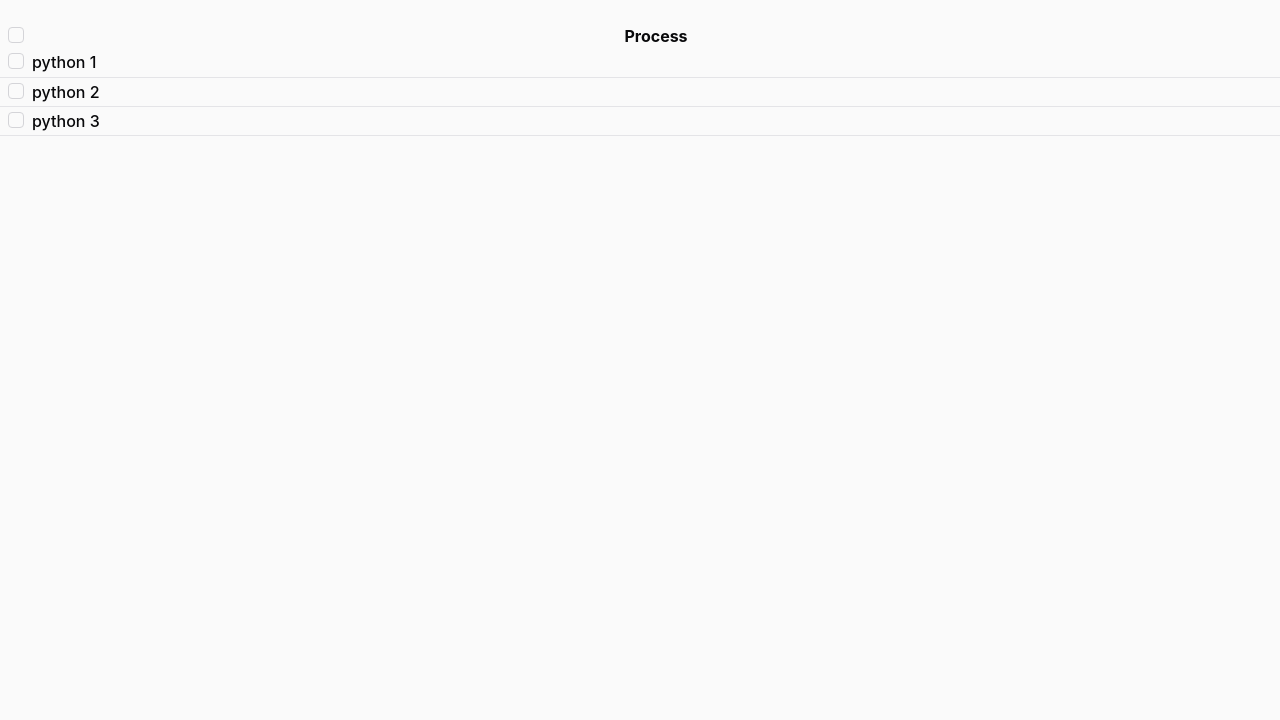
shared process interaction › confirms once for an immutable group and reports partial results
Click the checkbox named "Select all matching processes". click: (16, 35)
box: [8,27,24,43]
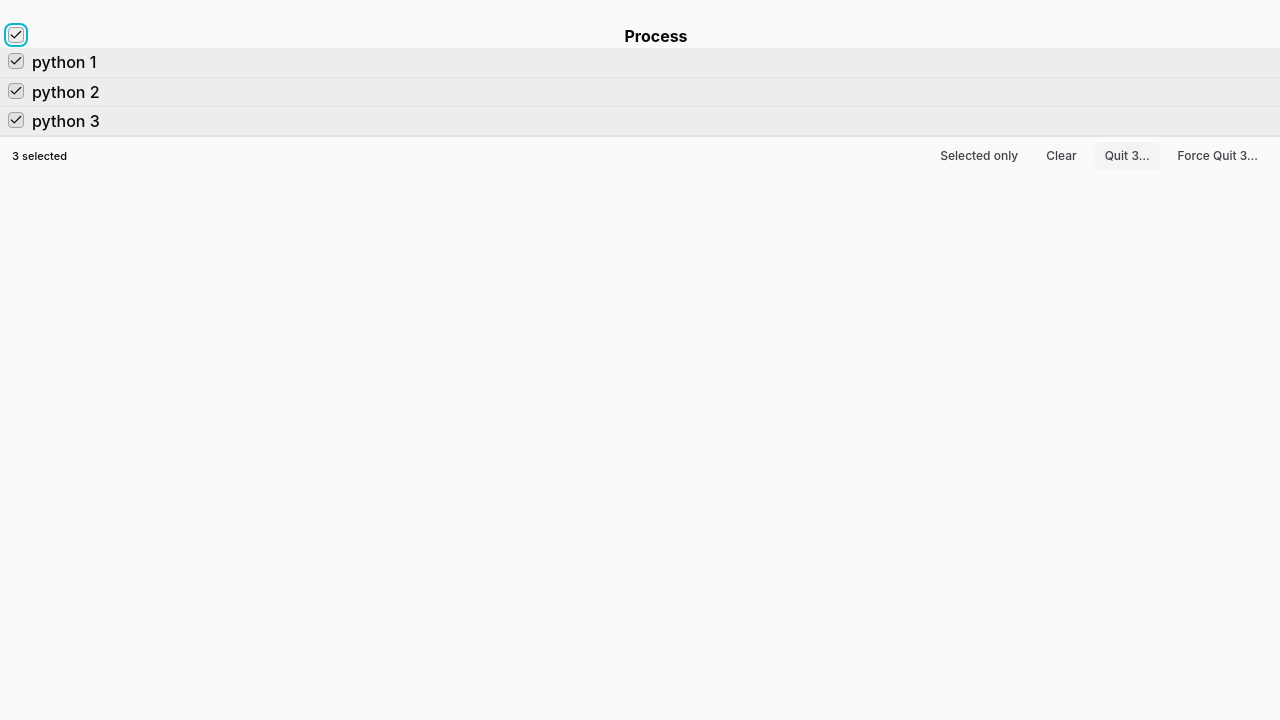
Click the button "Quit 3…". click: (1127, 156)
box: [1095,142,1160,170]
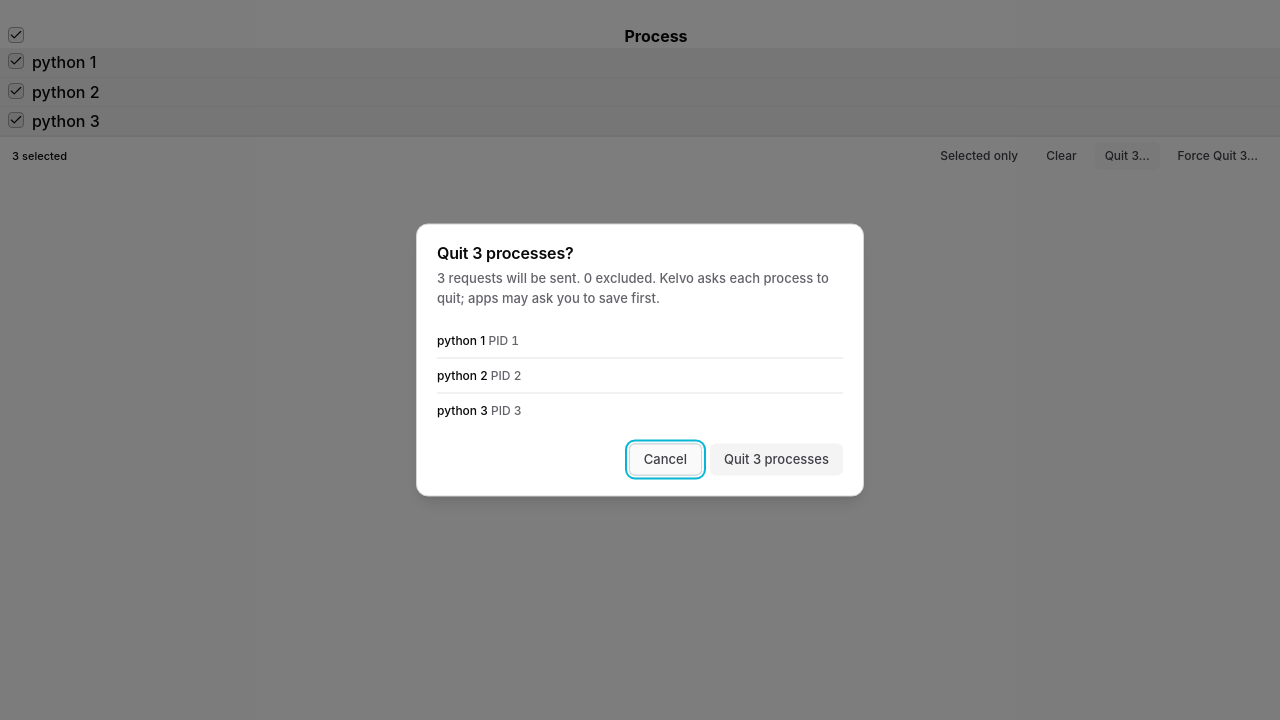
Click the button "Quit 3 processes". click: (776, 460)
box: [710,444,843,476]
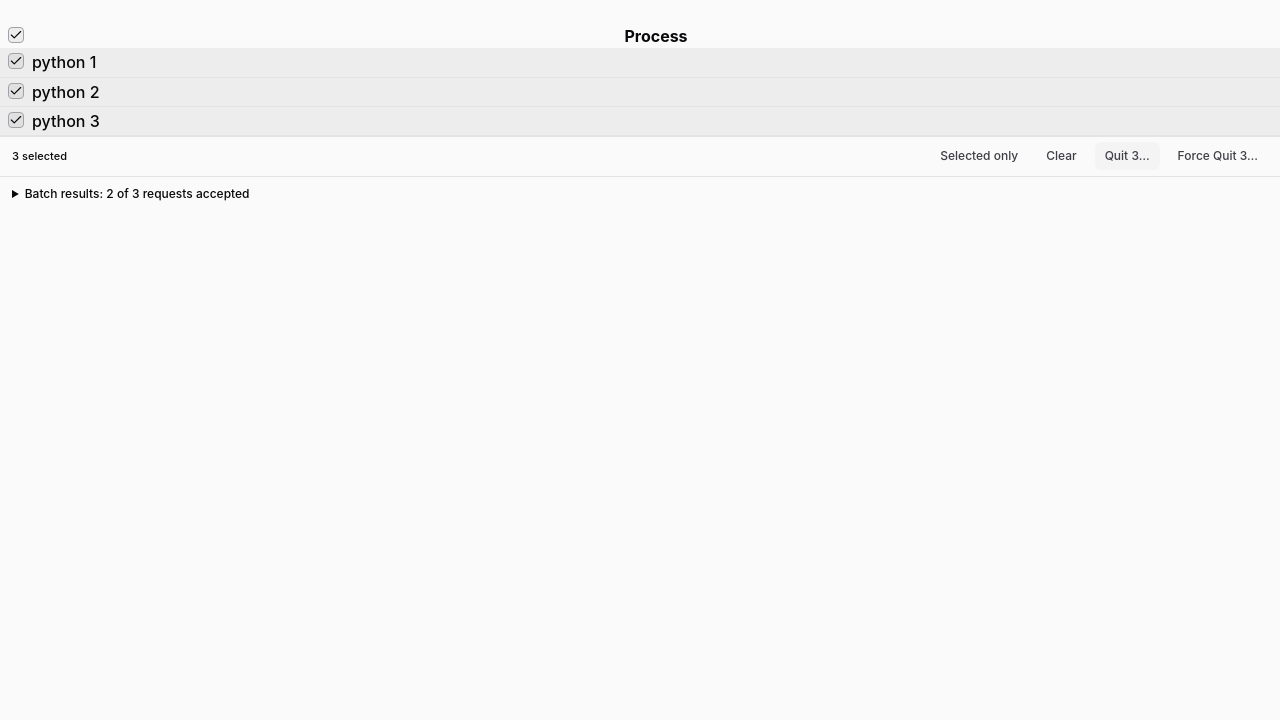
Click the heading "Batch results: 2 of 3 requests accepted". click: (137, 193)
box: [25,186,250,200]
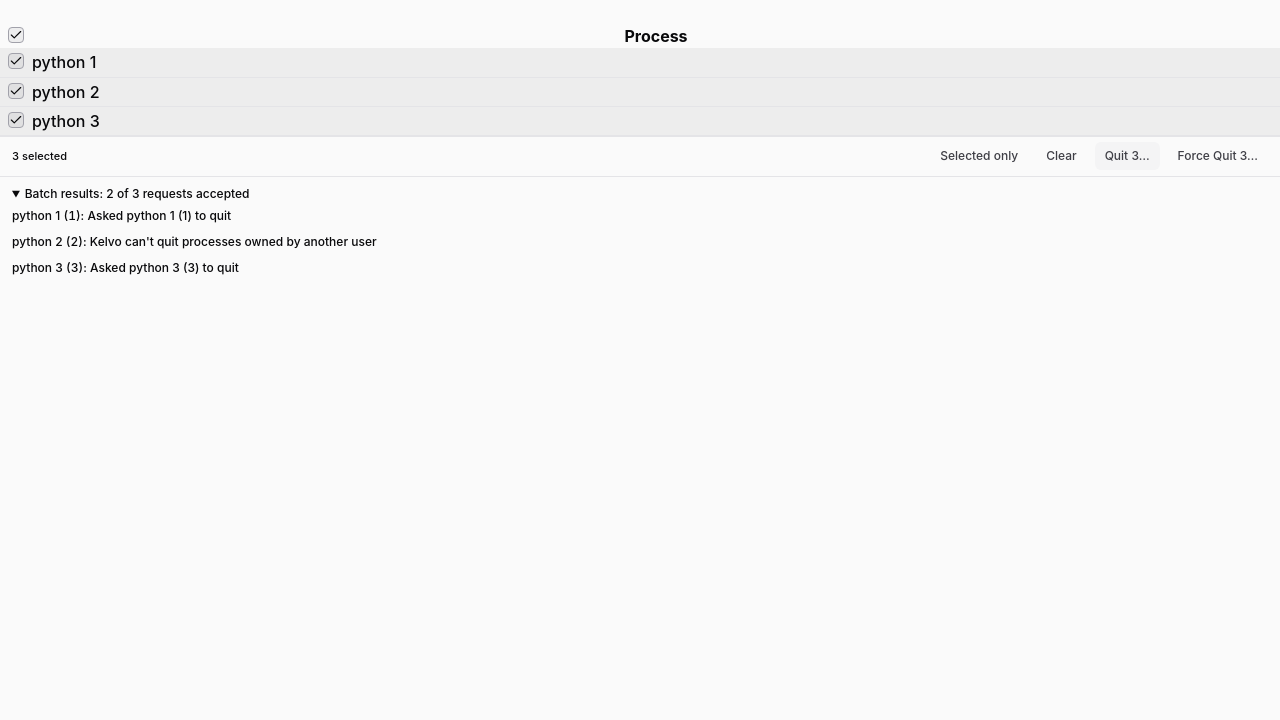
Check: the text "3 selected" is shown, box [12,148,67,164]
Check: the list item "another user" is shown, box [90,234,377,248]
